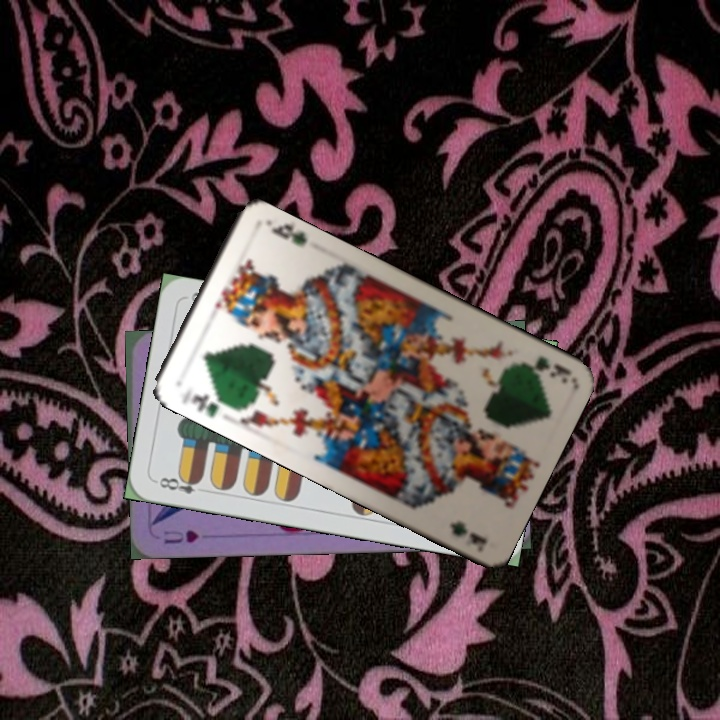E8: (152, 471, 204, 497)
GK: (177, 381, 232, 420), (515, 352, 573, 380)
HU: (160, 526, 201, 547)
